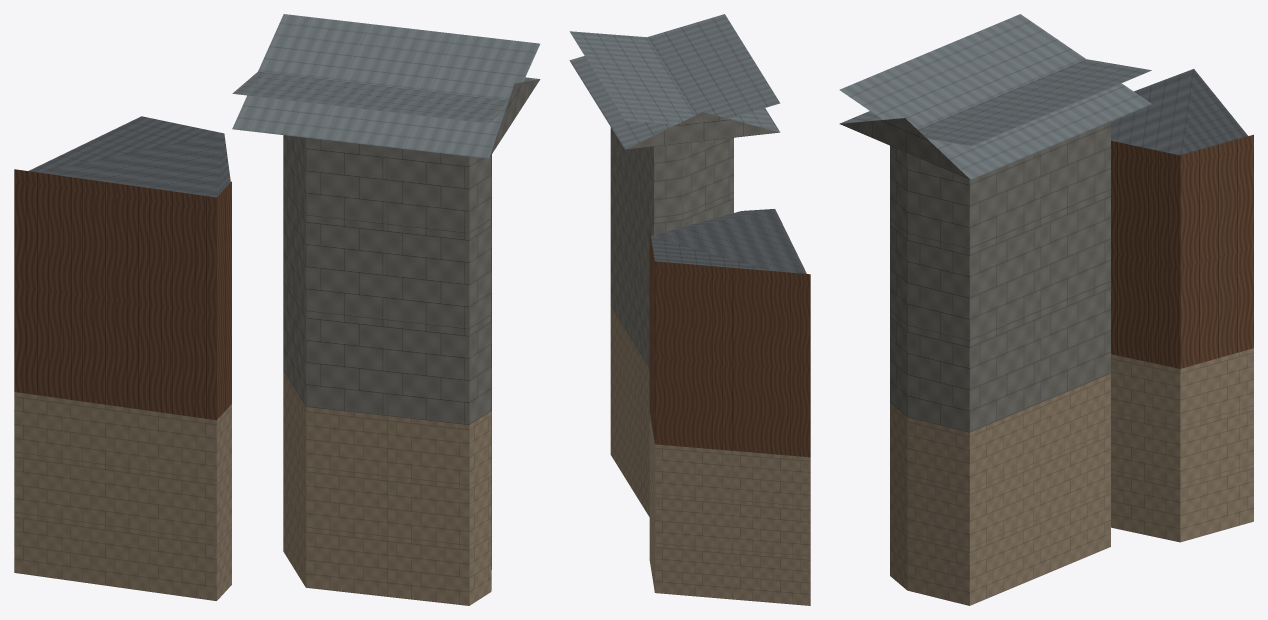
The model's file is bld_c37_-12_541.gltf.
The picture shows the model from 3 angles, left to right: view 1: azimuth 30°, elevation 25°; view 2: azimuth 150°, elevation 25°; view 3: azimuth 270°, elevation 25°; orthographic projection. The views are drawn at different scales.
Visible parts, largest first — view 1: bld_c37_-12_541; view 2: bld_c37_-12_541; view 3: bld_c37_-12_541.
Boxes of the visible parts, box(x1,y1,x2,y2) form: bld_c37_-12_541: box(14, 14, 540, 605); bld_c37_-12_541: box(569, 14, 810, 605); bld_c37_-12_541: box(839, 14, 1253, 605).
Size of the model in its own units: 12.09 by 14.5 by 11.05.
7 materials, 7 textured.
